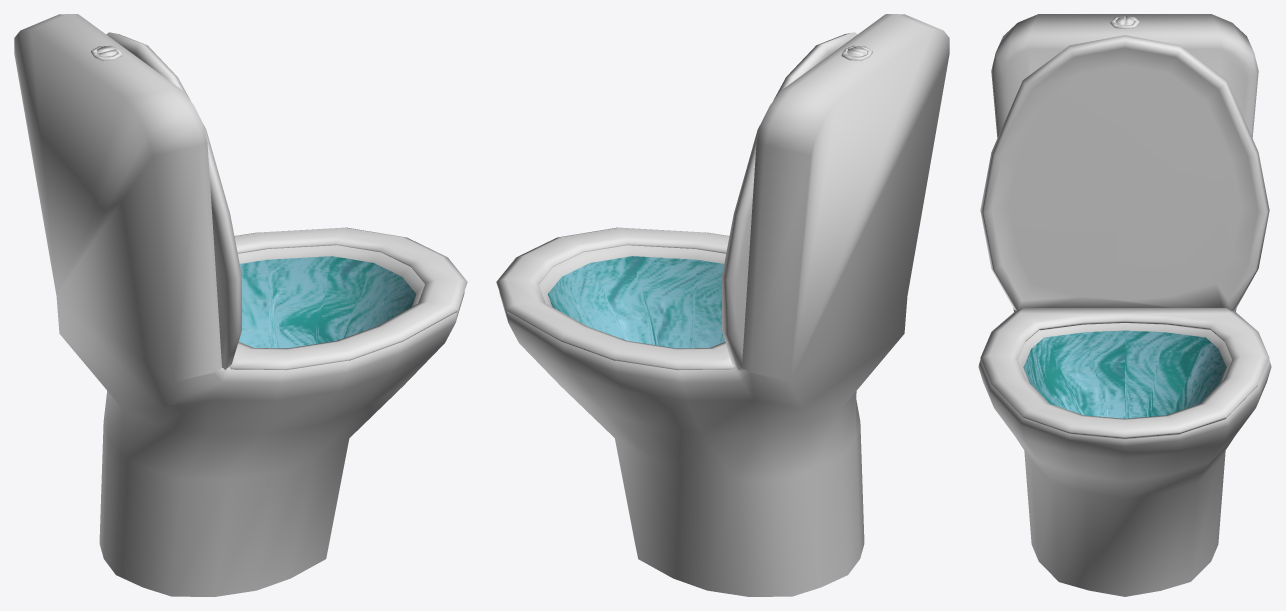
Rendered from Skibidi.fbx.
The picture shows the model from 3 angles, left to right: view 1: azimuth 30°, elevation 25°; view 2: azimuth 150°, elevation 25°; view 3: azimuth 270°, elevation 25°; orthographic projection. The views are drawn at different scales.
Parts seen in each view (by area): view 1: Skibidi, Flush Water; view 2: Skibidi, Flush Water; view 3: Skibidi, Flush Water.
Boxes of the visible parts, x1,y1,x2,y2 form: Skibidi: (14,14,467,596); Flush Water: (238,256,416,348); Skibidi: (496,14,949,596); Flush Water: (547,256,725,348); Skibidi: (978,14,1271,596); Flush Water: (1023,330,1226,418).
Size of the model in its own units: 109 by 149 by 82.23.
